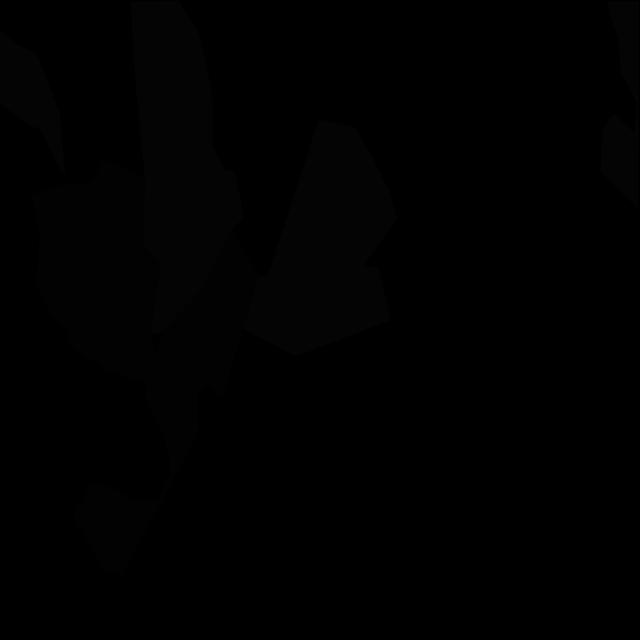cardboard: (73, 231, 259, 576), (31, 159, 161, 384)
soft_plastic: (130, 0, 244, 336), (241, 119, 397, 356), (600, 1, 639, 209), (32, 54, 65, 174), (0, 31, 39, 129)
